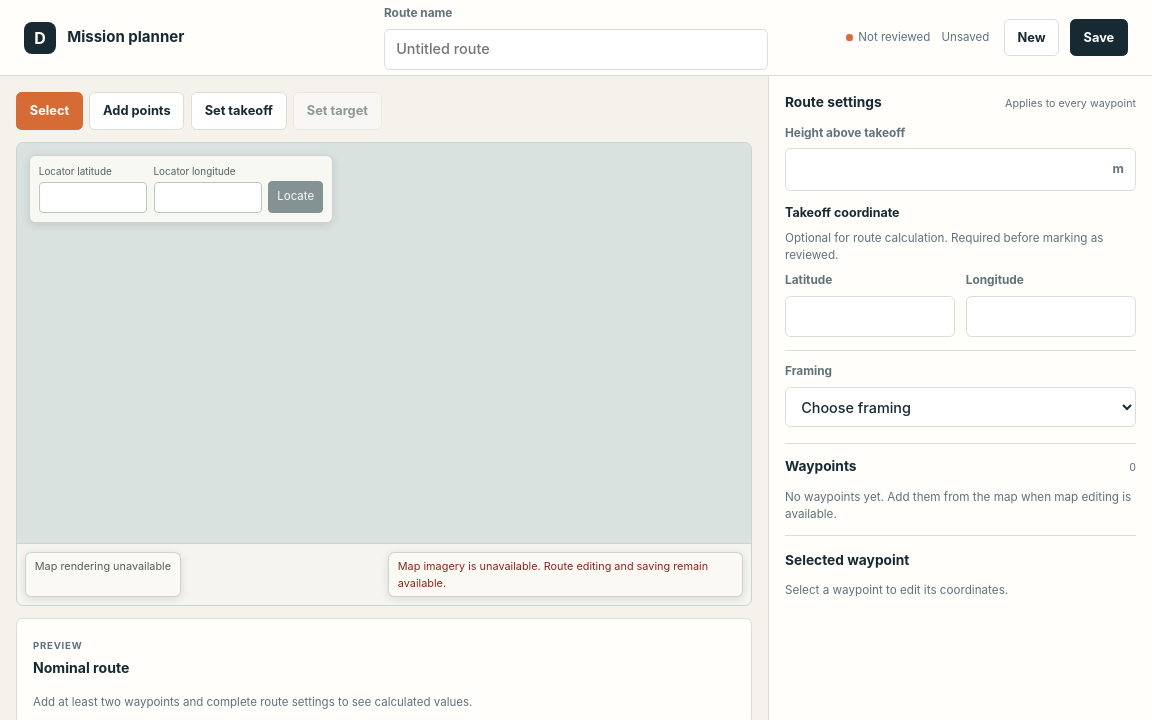
editor shell actions › keeps the saved slot after New and restores it only after explicit Load
Step 1. Type "Unsaved route" into the field labelled "Route name" → (576, 49), box [384,29,768,70]
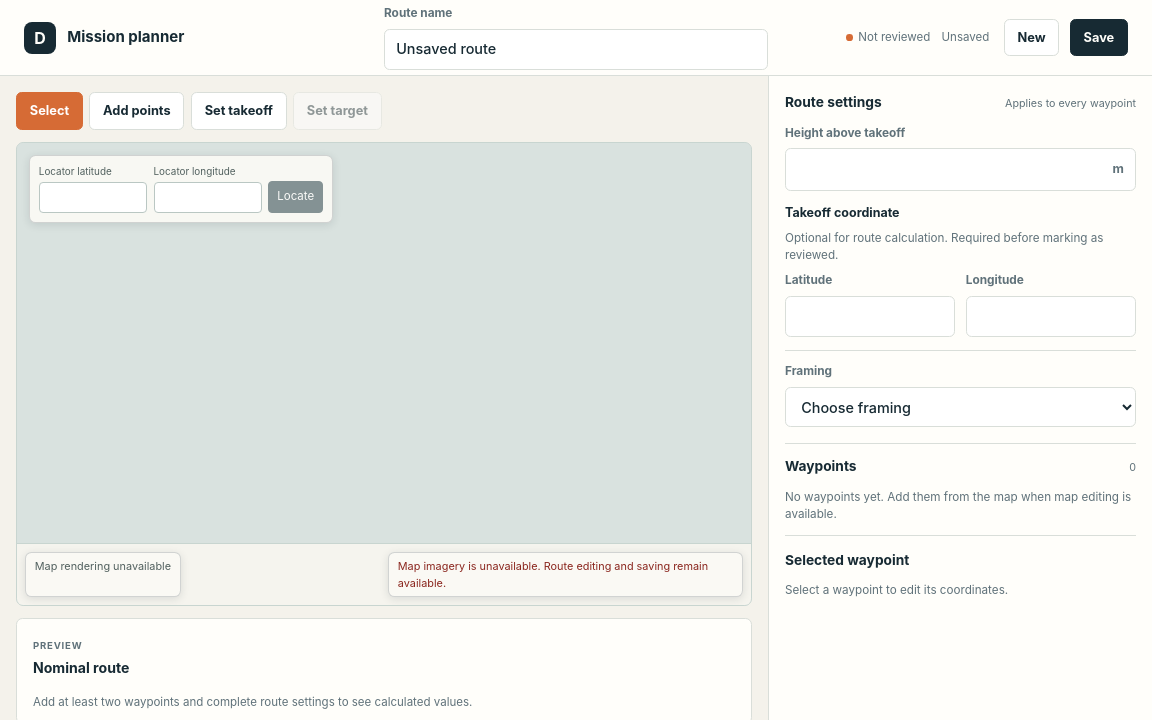
Step 2. Click the button "New" → (1032, 38), box [1004,19,1059,56]
(page scrolled)
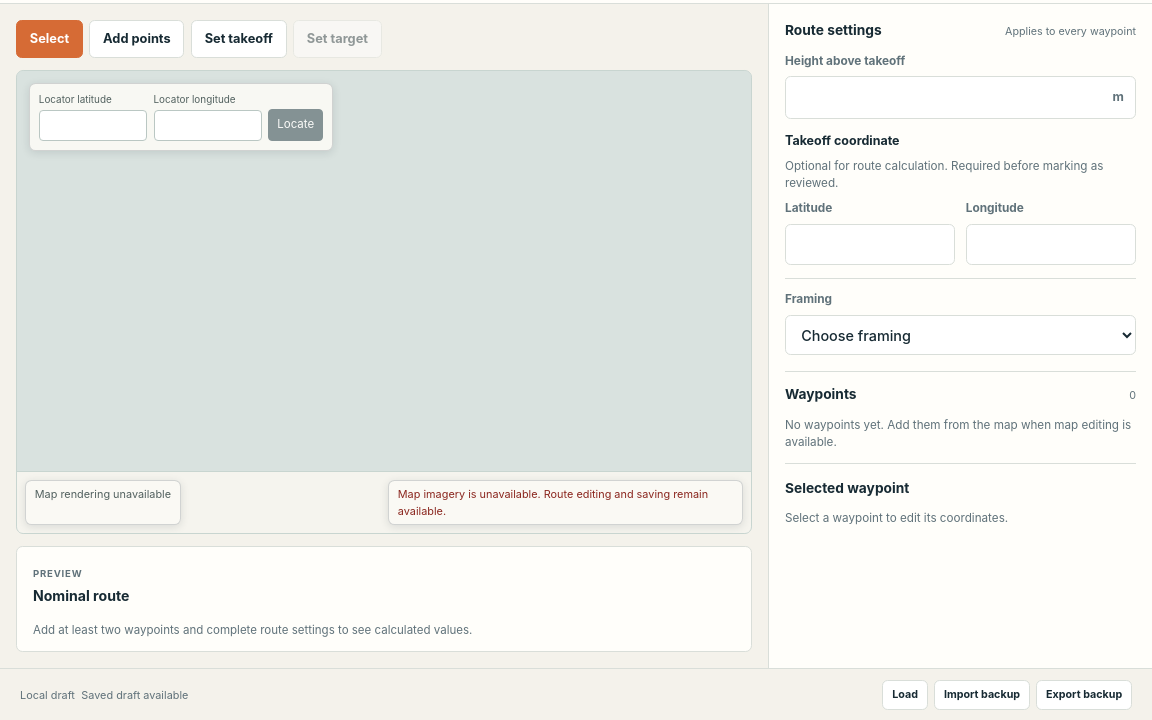
Step 3. Click the button "Load" → (905, 695), box [882,680,928,710]
(page scrolled)
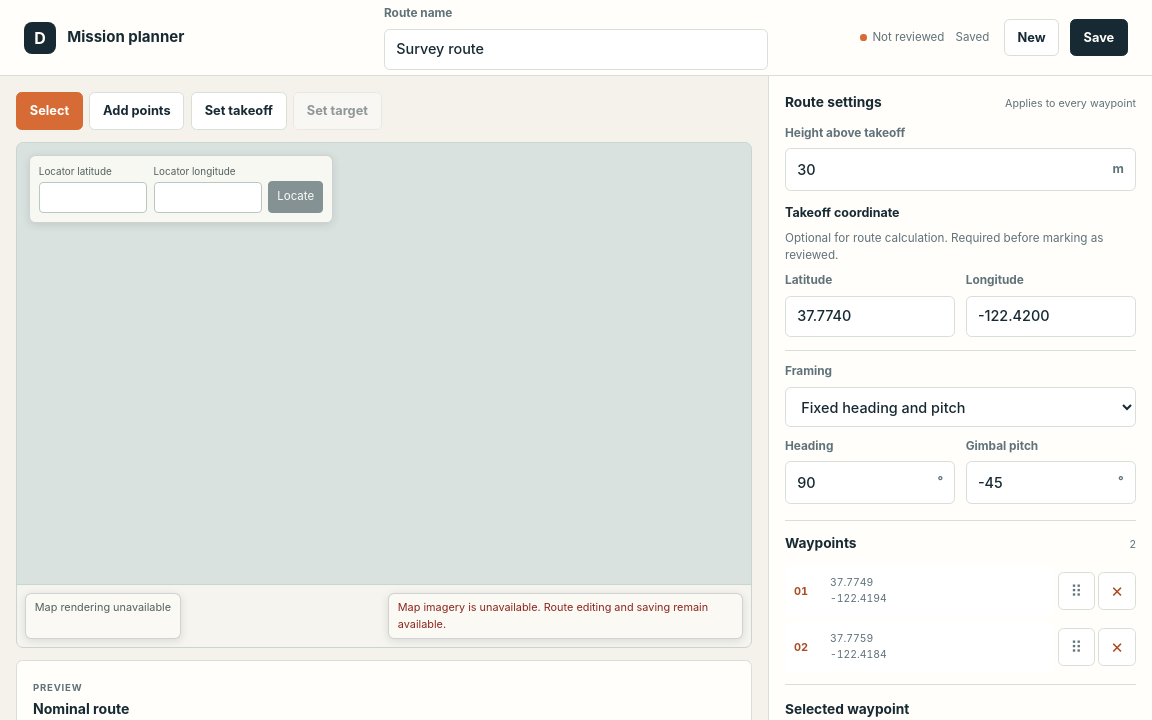
Expected: the field labelled "Route name" holds "Survey route", [384,29,768,70]
Expected: the message named "Save status" reads "Saved", [956,30,989,44]
